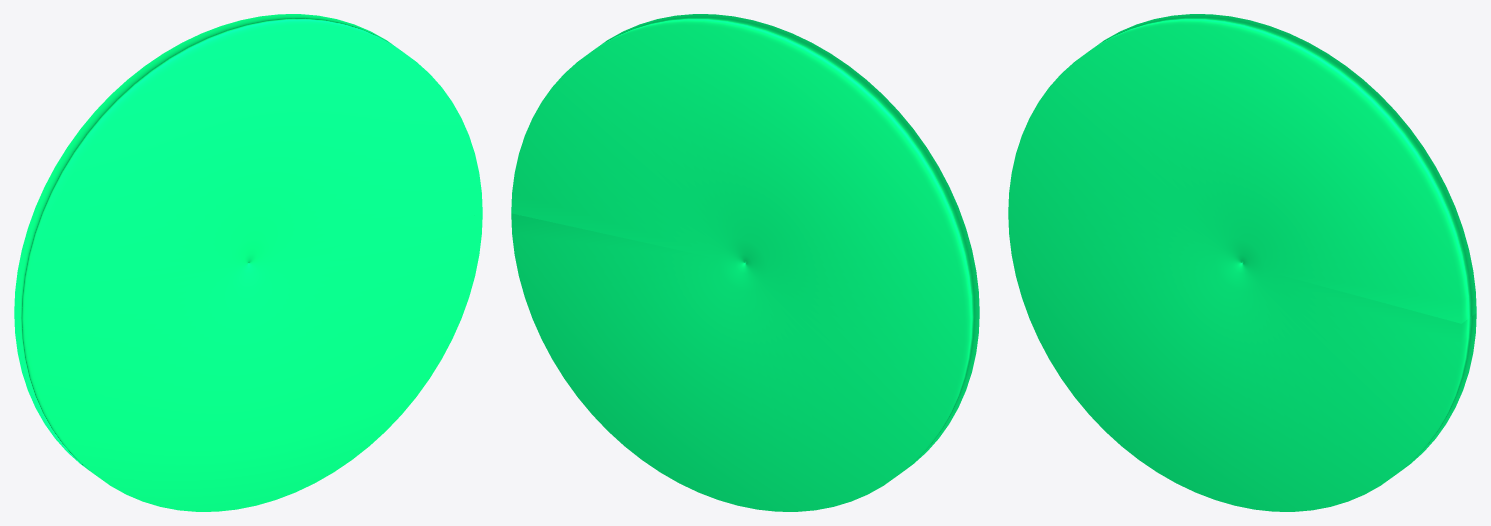
Rendered from duocylinder_4d_torus_ar_universal.glb.
The picture shows the model from 3 angles, left to right: view 1: azimuth 30°, elevation 25°; view 2: azimuth 150°, elevation 25°; view 3: azimuth 330°, elevation 25°; orthographic projection.
Parts seen in each view (by area): view 1: duocylinder_4d_torus_ar; view 2: duocylinder_4d_torus_ar; view 3: duocylinder_4d_torus_ar.
Boxes of the visible parts, x1,y1,x2,y2 form: duocylinder_4d_torus_ar: [14, 14, 482, 511]; duocylinder_4d_torus_ar: [511, 14, 979, 511]; duocylinder_4d_torus_ar: [1008, 14, 1476, 511].
Bounding box in the file's own units: 1 × 1 × 0.0581.
